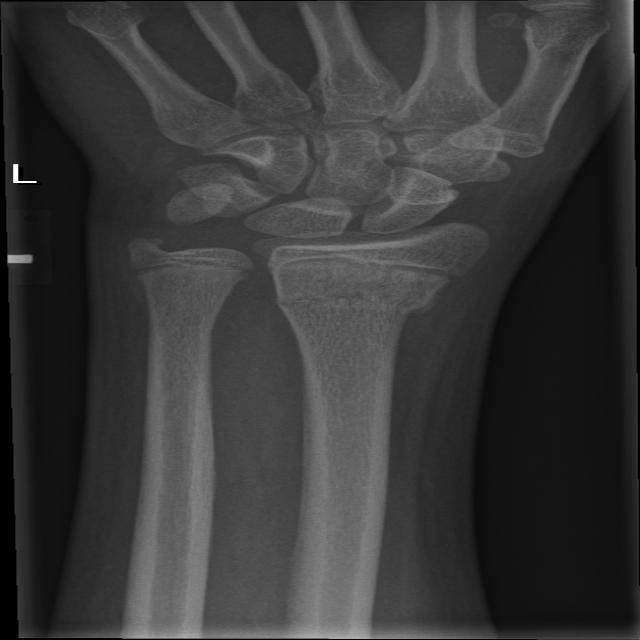radius fracture: (362, 246, 470, 413)
